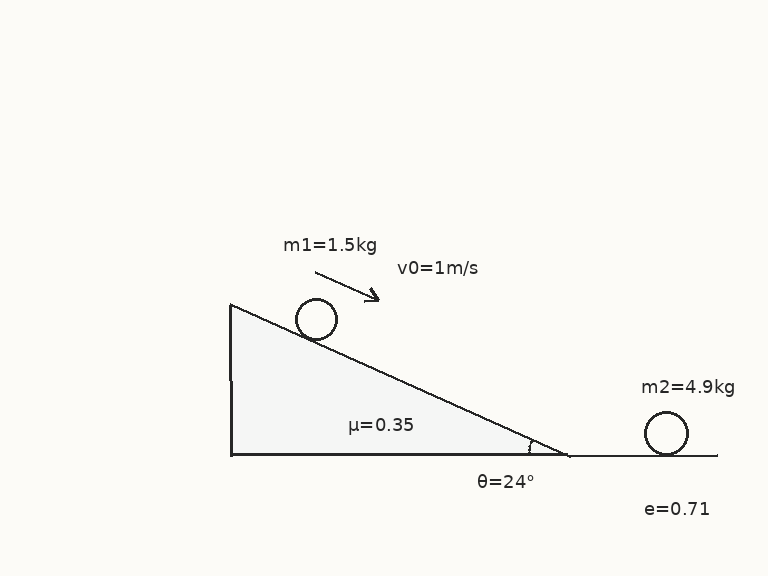ball: (642, 409, 690, 457), (293, 296, 339, 342)
ramp: (228, 302, 571, 457)
